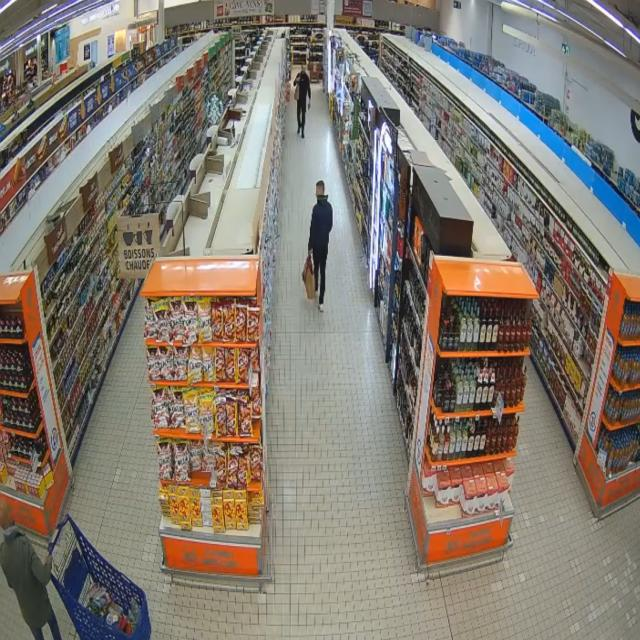article: (308, 104, 311, 111)
bags: (302, 256, 314, 299), (295, 84, 299, 101)
hands: (45, 555, 52, 568), (308, 249, 312, 257), (309, 99, 311, 106)
person: (0, 499, 61, 639), (308, 181, 332, 311), (294, 66, 311, 138)
